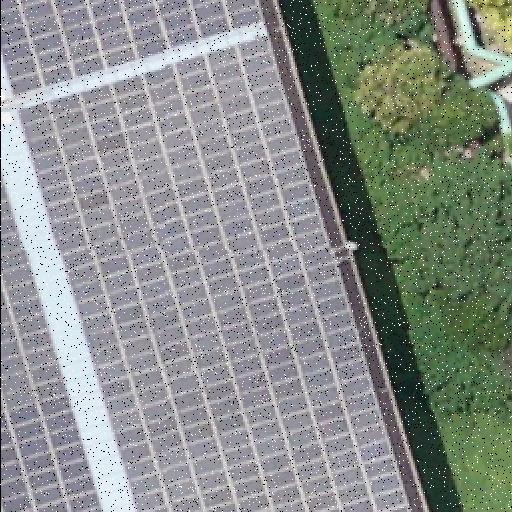solar-panel: (15, 36, 409, 512), (1, 169, 103, 511), (1, 0, 263, 96)
